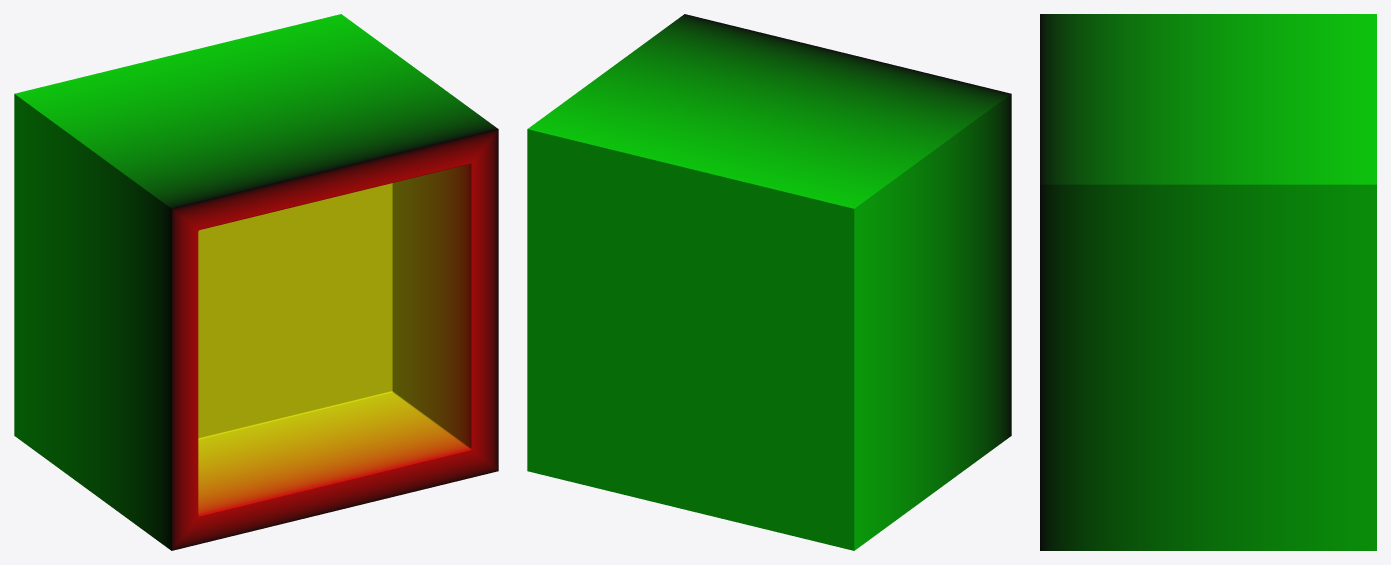
The model's file is alcove-model.fbx.
3 views of the same model, side by side, from view 1: azimuth 30°, elevation 25°; view 2: azimuth 150°, elevation 25°; view 3: azimuth 270°, elevation 25° (orthographic). The views are drawn at different scales.
Visible parts, largest first — view 1: alcove; view 2: alcove; view 3: alcove.
Boxes of the visible parts, x1,y1,x2,y2 form: alcove: [14, 14, 498, 550]; alcove: [527, 14, 1011, 550]; alcove: [1040, 14, 1376, 550].
Size of the model in its own units: 2.4 by 2 by 2.4.
